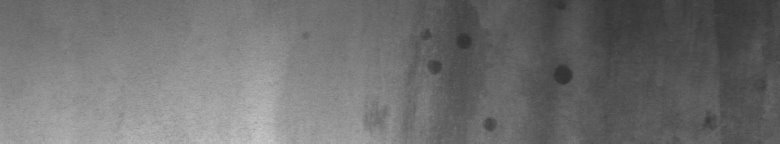fi: (409, 4, 580, 136)
